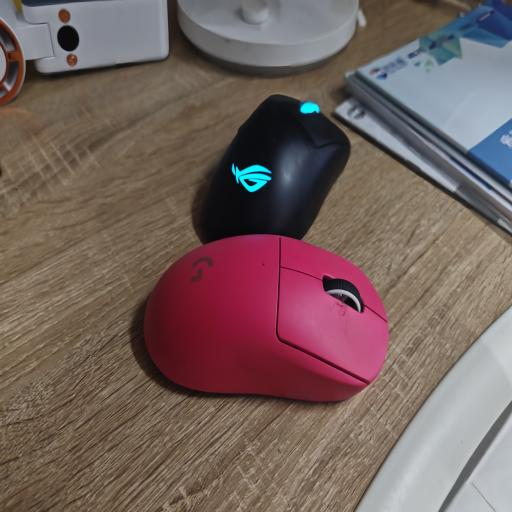mouse: (144, 235, 388, 401), (201, 95, 350, 241)
